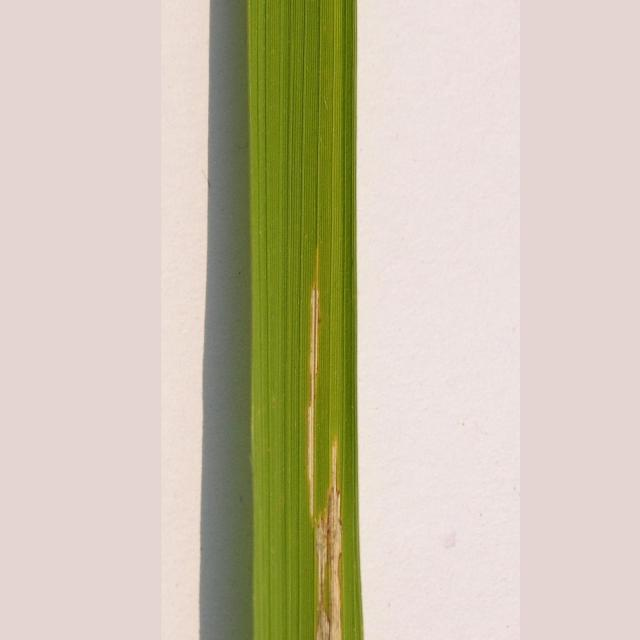leaf blight: (290, 272, 365, 640)
